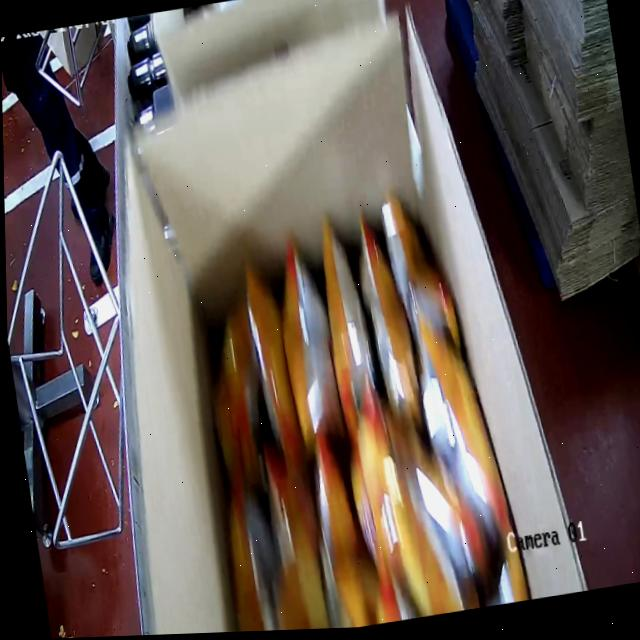FRENCH_CHEESE: (180, 188, 527, 634)
